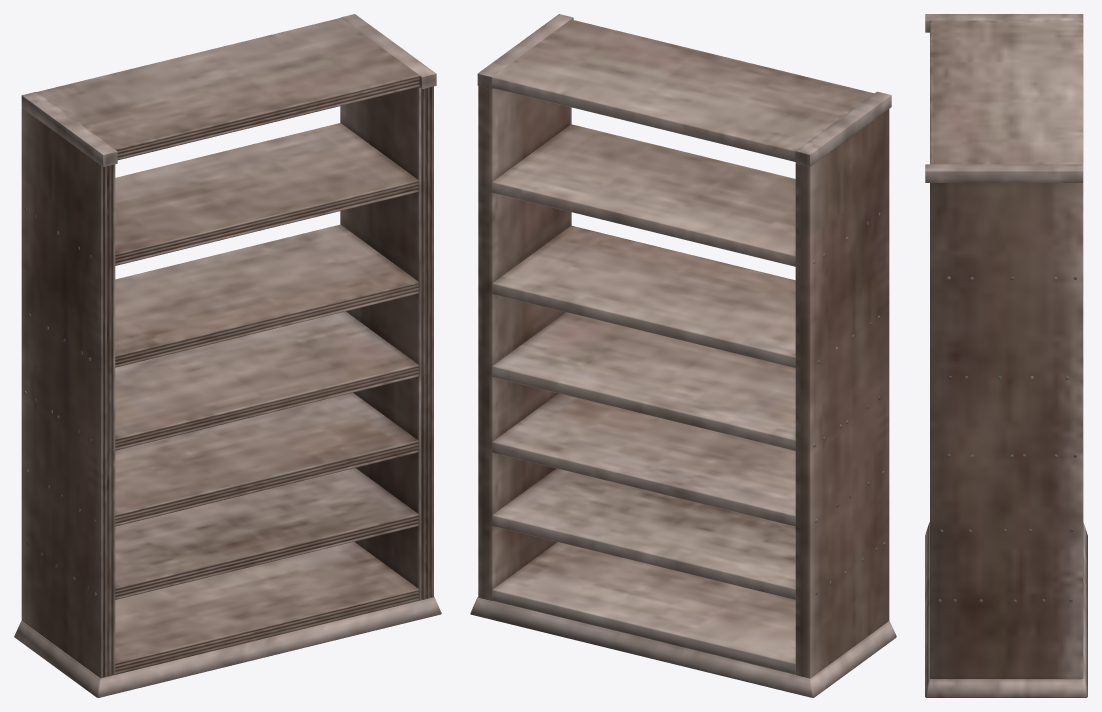
File: wooden_bookshelf_worn.glb
3 views of the same model, side by side, from view 1: azimuth 30°, elevation 25°; view 2: azimuth 150°, elevation 25°; view 3: azimuth 270°, elevation 25° (orthographic). The views are drawn at different scales.
Visible parts, largest first — view 1: wooden_bookshelf_worn; view 2: wooden_bookshelf_worn; view 3: wooden_bookshelf_worn.
Boxes of the visible parts, left/top/right/bottom form: wooden_bookshelf_worn: left=14, top=14, right=441, bottom=697; wooden_bookshelf_worn: left=470, top=14, right=896, bottom=697; wooden_bookshelf_worn: left=925, top=14, right=1087, bottom=697.
Size of the model in its own units: 1.37 by 2.06 by 0.5813.
1 material, 1 textured.
